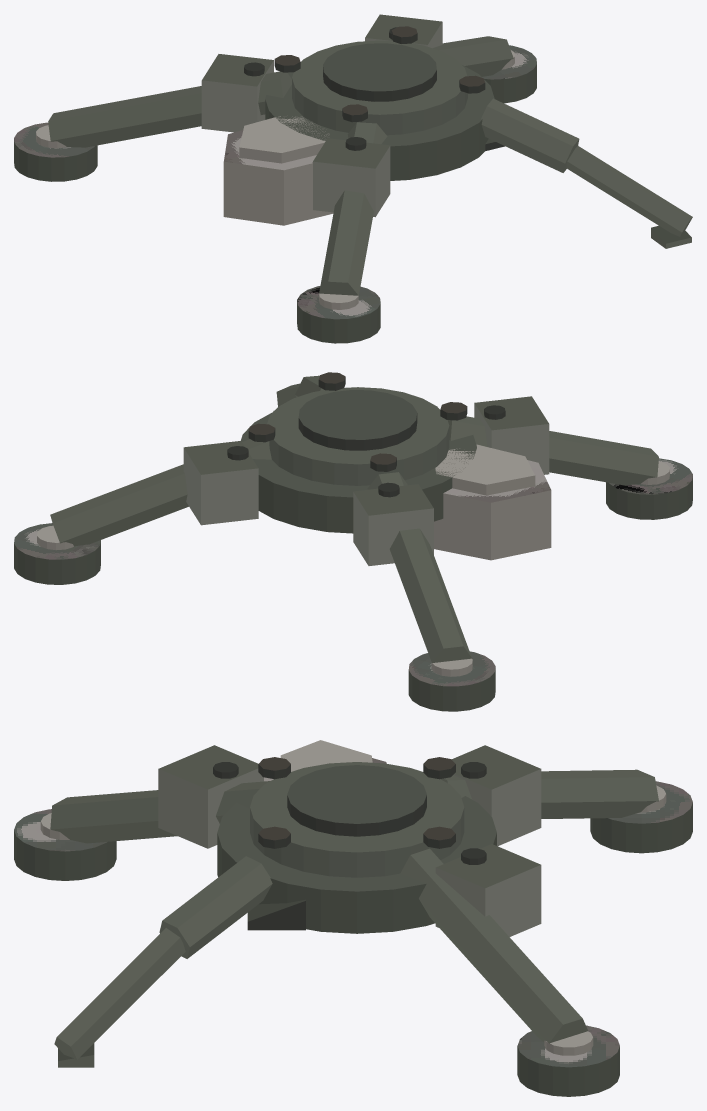
File: Building_AncientMegaCannonTripod__C.glb
3 renders of one model, top to bottom at view 1: azimuth 30°, elevation 25°; view 2: azimuth 150°, elevation 25°; view 3: azimuth 270°, elevation 25°, orthographic. The views are drawn at different scales.
Visible parts, largest first — view 1: AncientMegaCannonTripod__C; view 2: AncientMegaCannonTripod__C; view 3: AncientMegaCannonTripod__C.
Boxes of the visible parts, x1,y1,x2,y2 form: AncientMegaCannonTripod__C: [14, 14, 692, 343]; AncientMegaCannonTripod__C: [14, 372, 692, 711]; AncientMegaCannonTripod__C: [14, 740, 692, 1096].
Bounding box in the file's own units: 2.91 × 0.76 × 2.91.
1 material, 1 textured.
